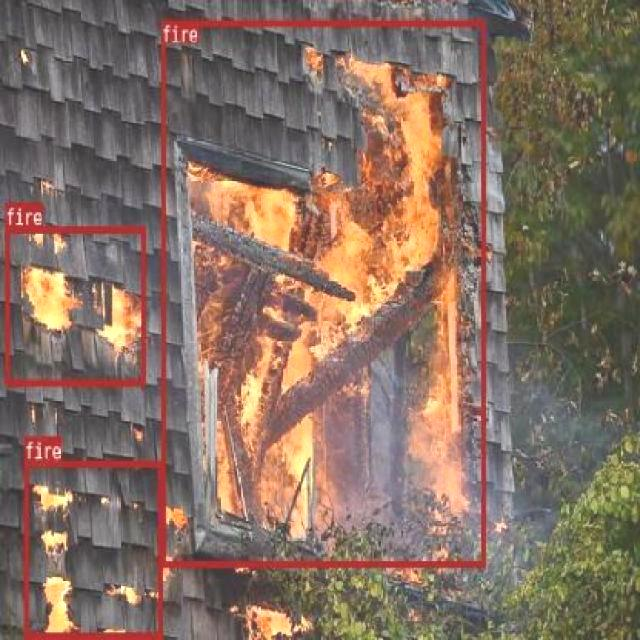fire: (160, 19, 485, 566), (23, 459, 162, 638), (5, 226, 144, 385)
